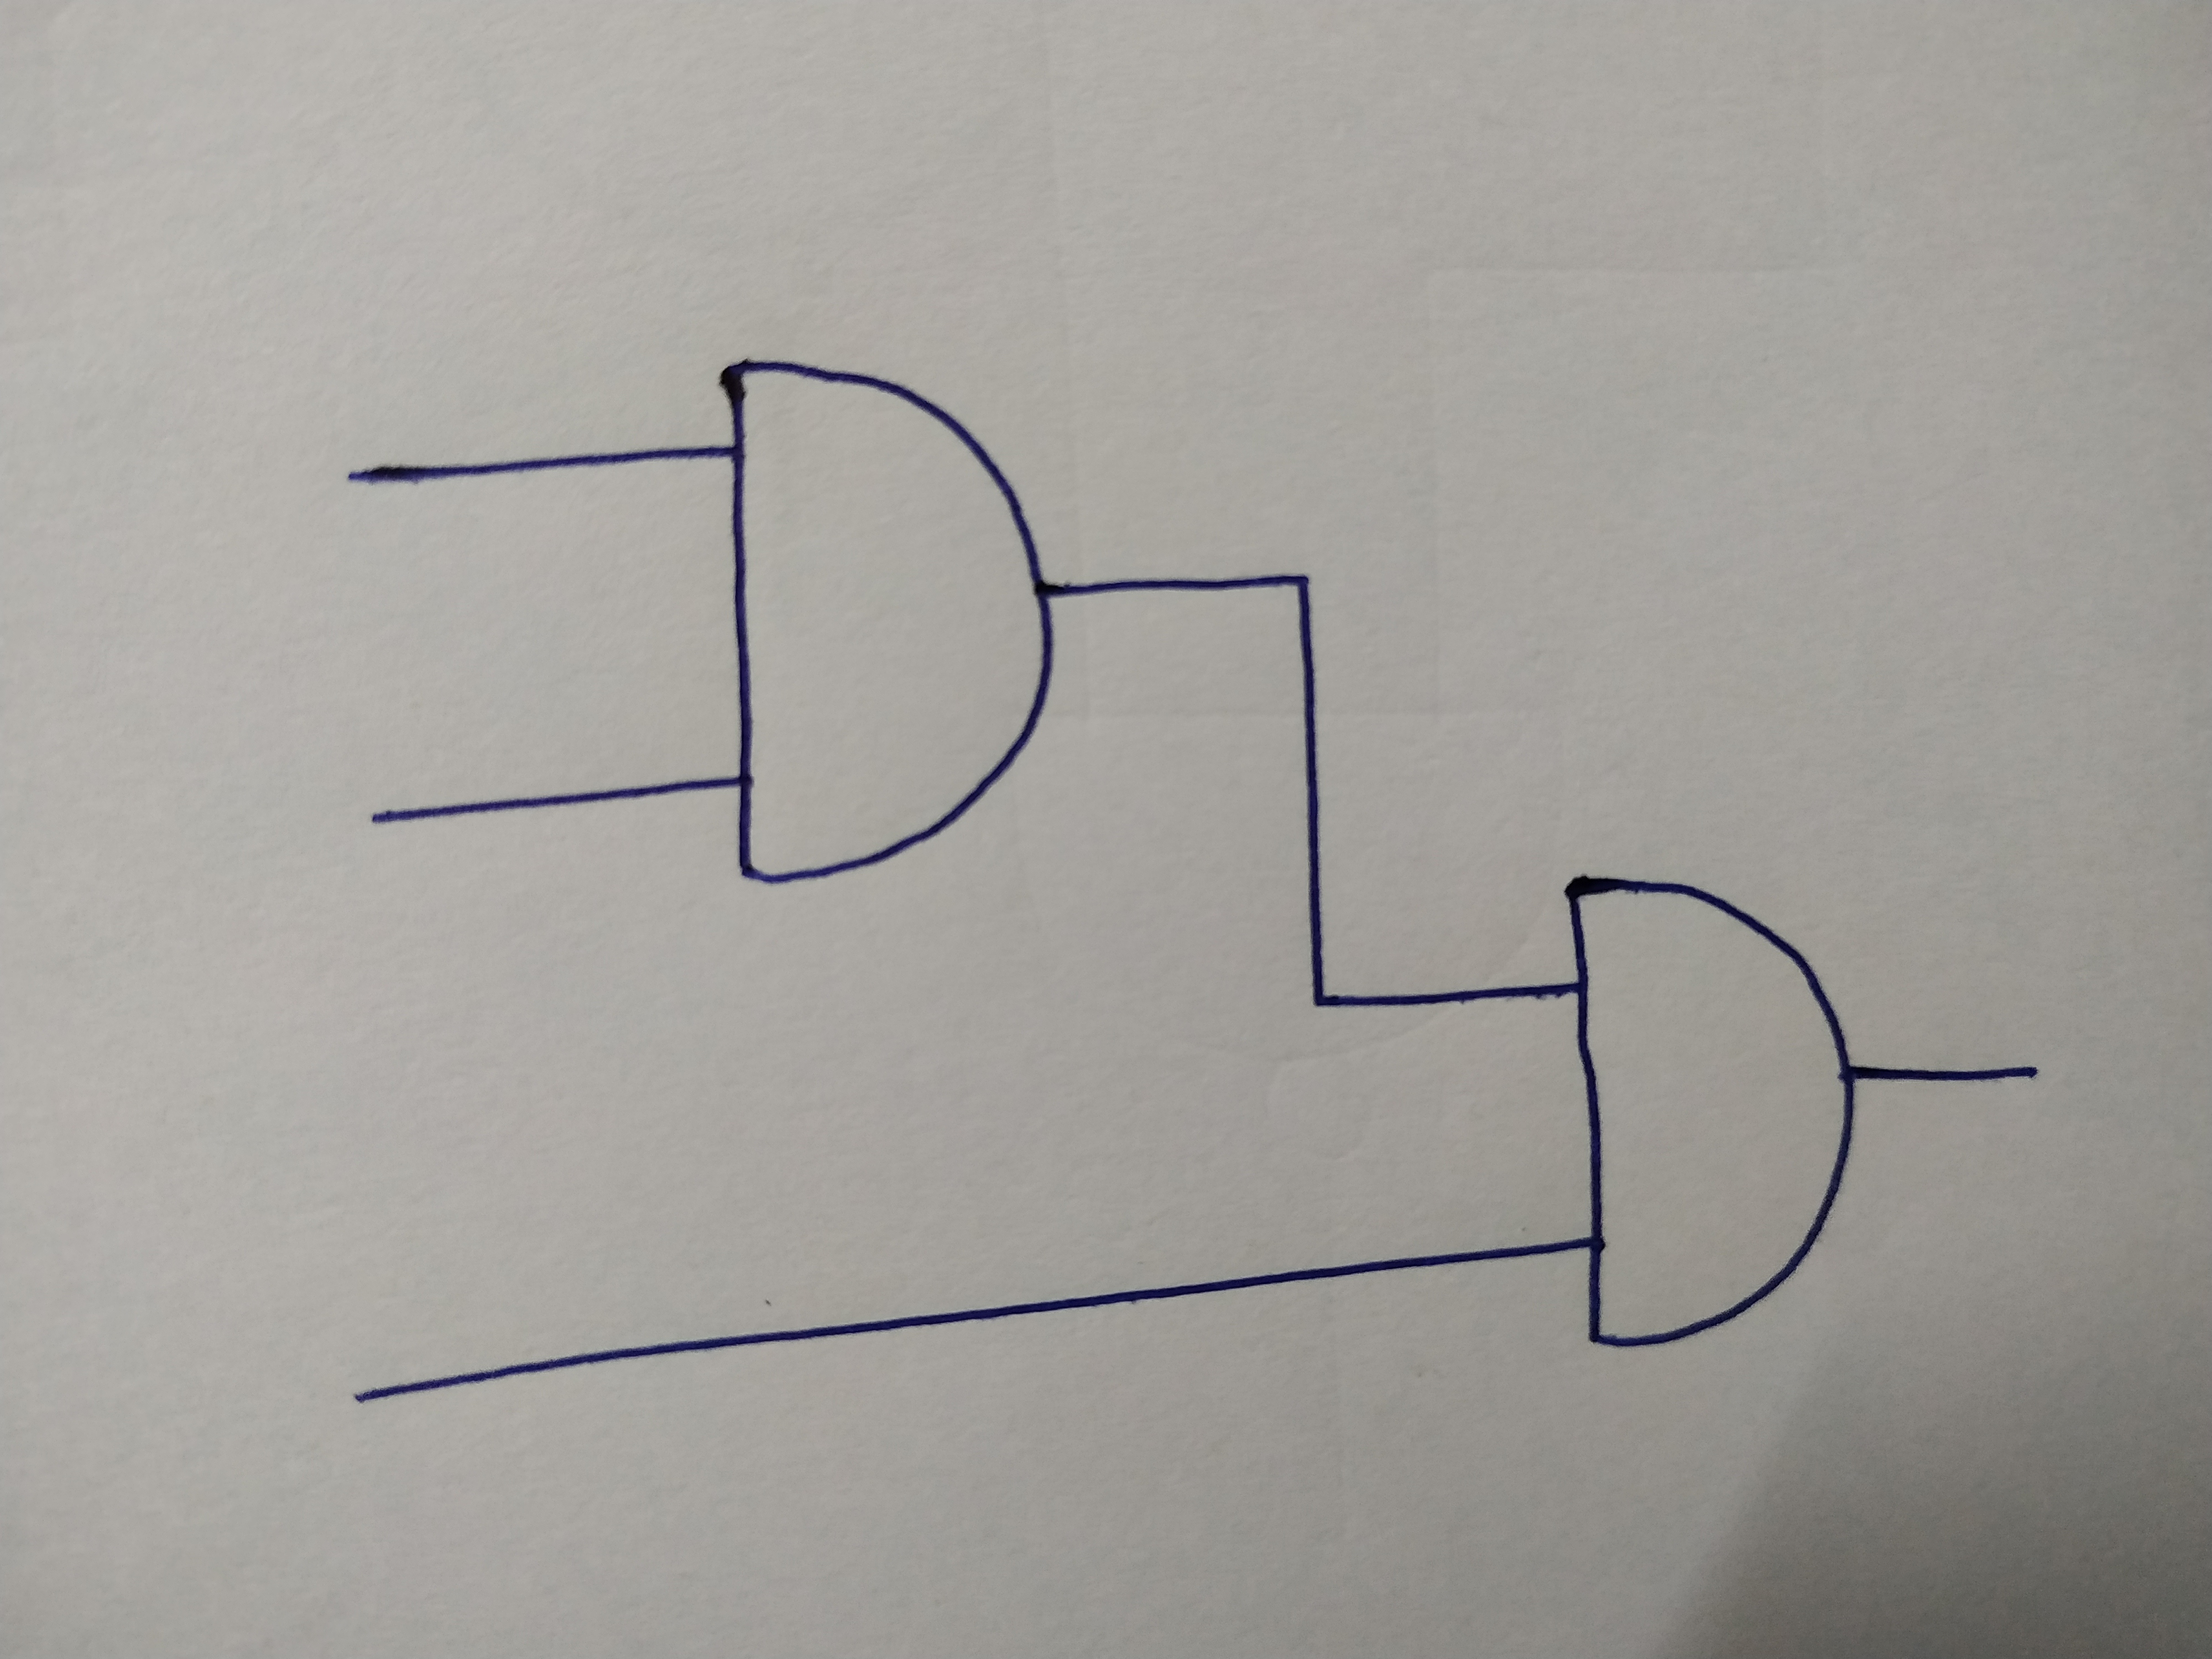and: (714, 356, 1062, 885), (1561, 864, 1857, 1356)
